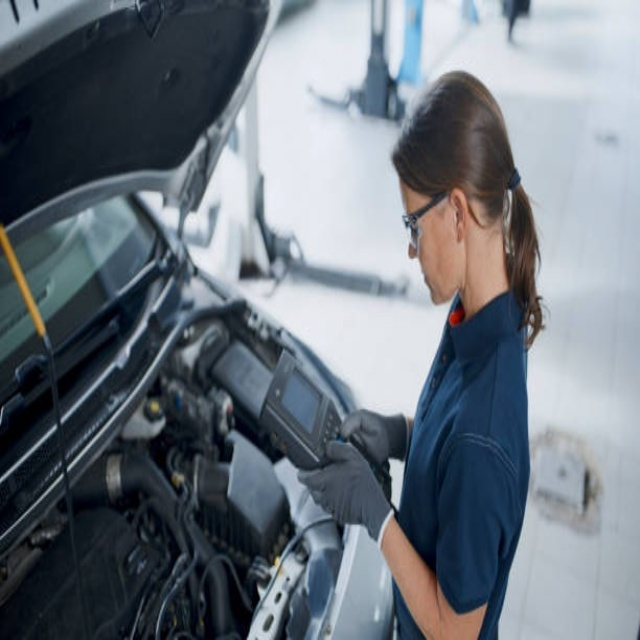Gafas: (402, 189, 452, 255)
Guantes: (337, 408, 407, 468)
Sin_mascara: (411, 259, 448, 305)
